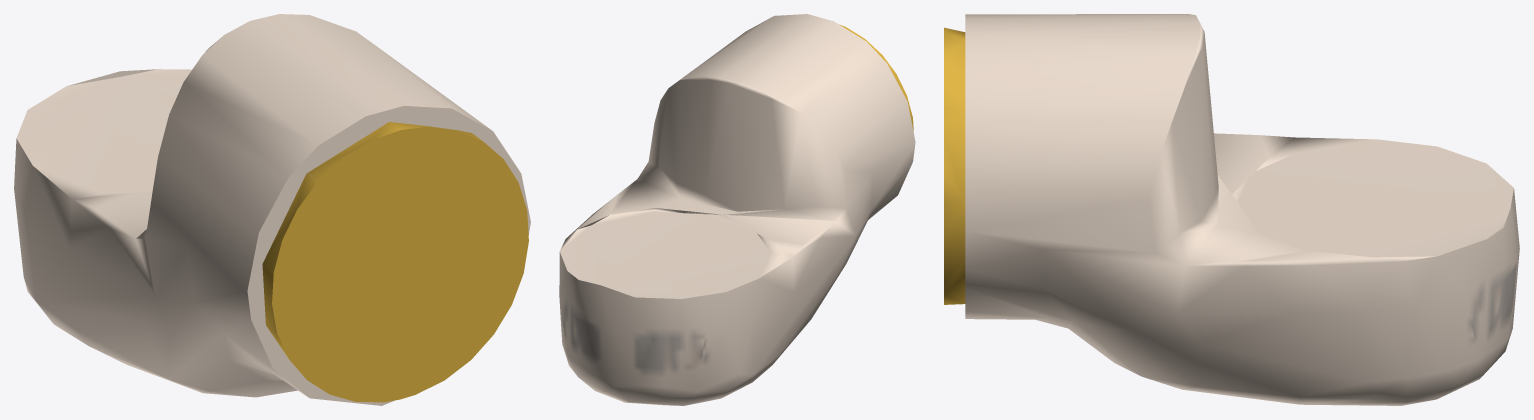
Rendered from link_wrist.3obj.obj.
3 views of the same model, side by side, from view 1: azimuth 30°, elevation 25°; view 2: azimuth 150°, elevation 25°; view 3: azimuth 270°, elevation 25° (orthographic). The views are drawn at different scales.
Parts seen in each view (by area): view 1: link_wrist whole_robot; view 2: link_wrist whole_robot; view 3: link_wrist whole_robot.
Part boxes in pixels (x1=…): link_wrist whole_robot: x1=14, y1=14, x2=530, y2=405; link_wrist whole_robot: x1=559, y1=14, x2=915, y2=405; link_wrist whole_robot: x1=944, y1=14, x2=1519, y2=405.
Size of the model in its own units: 0.0816 by 0.099 by 0.1501.
